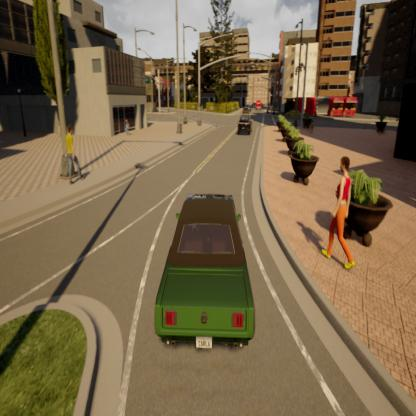Cars: (154, 187, 262, 361), (236, 111, 252, 136)
Pedestrian: (320, 151, 361, 278), (58, 122, 87, 192), (122, 116, 134, 139)
